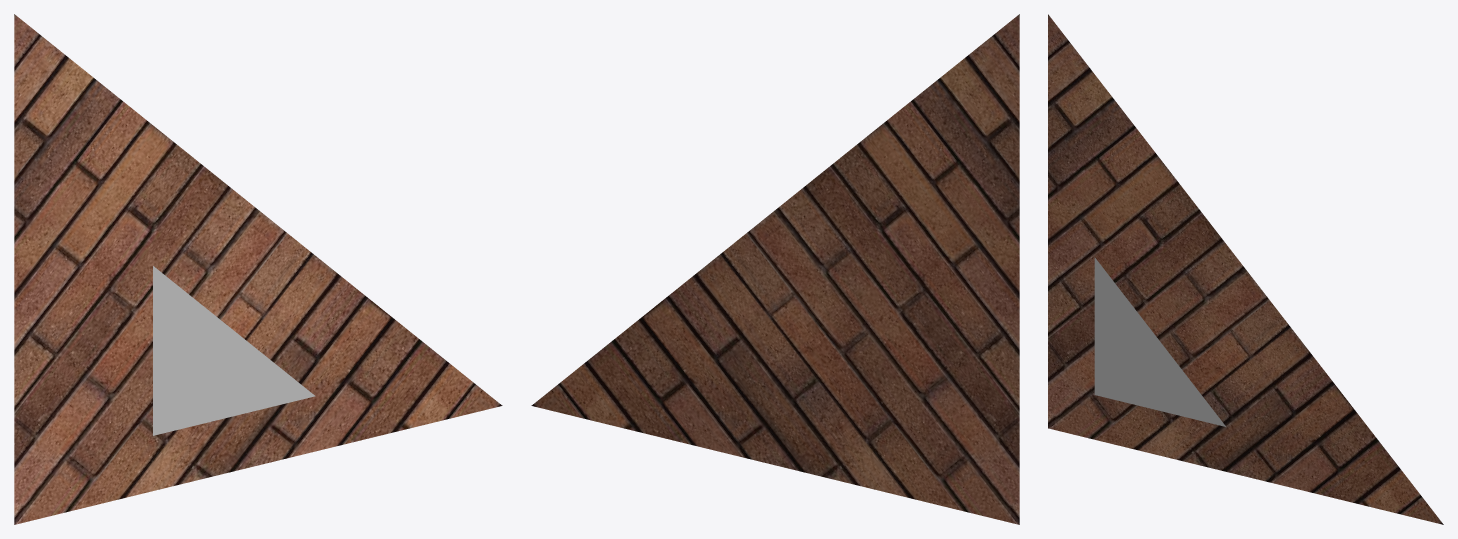
The model's file is trianglesDef.gltf.
The picture shows the model from 3 angles, left to right: view 1: azimuth 30°, elevation 25°; view 2: azimuth 150°, elevation 25°; view 3: azimuth 330°, elevation 25°; orthographic projection. The views are drawn at different scales.
Parts seen in each view (by area): view 1: Mesh_0, Mesh_0.001; view 2: Mesh_0; view 3: Mesh_0, Mesh_0.001.
Part boxes in pixels (x1,y1,x2,y2): Mesh_0: (14,14,502,524); Mesh_0.001: (153,266,315,435); Mesh_0: (531,14,1019,524); Mesh_0: (1048,14,1443,524); Mesh_0.001: (1094,257,1225,426).
Size of the model in its own units: 3 by 3 by 0.4323.
